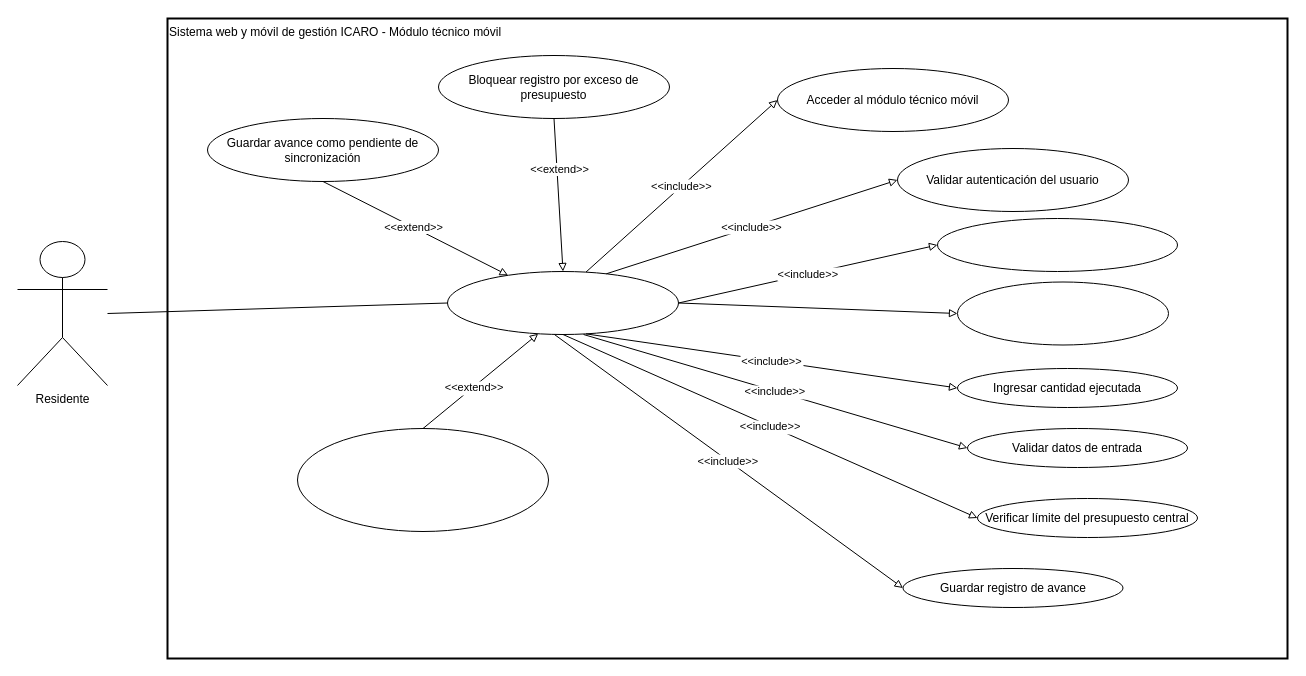
Some shapes in this 1306 by 676 pixel diagram are drawn without their labels. The shapes that lost their labels are listed below. From the top down, each one's box as (x1, y1, x2, y2) in pixels, then its label:
(936, 218, 1178, 272): Validar proyecto asignado y vigencia temporal
(446, 270, 678, 334): Registrar avance físico en obra
(956, 281, 1168, 345): Seleccionar proyecto y rubro
(296, 428, 548, 532): Denegar acceso por proyecto no asignado o vigencia expirada
